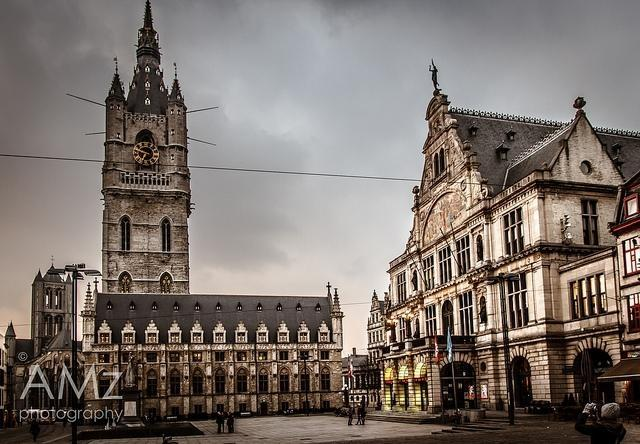motorcycle: (448, 412, 462, 424), (352, 407, 356, 415)
